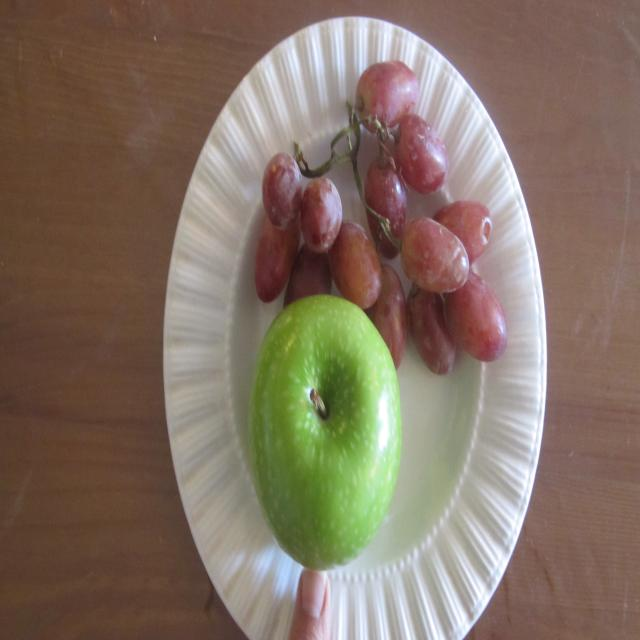apple: (251, 324, 407, 593)
grape: (232, 0, 499, 317)
